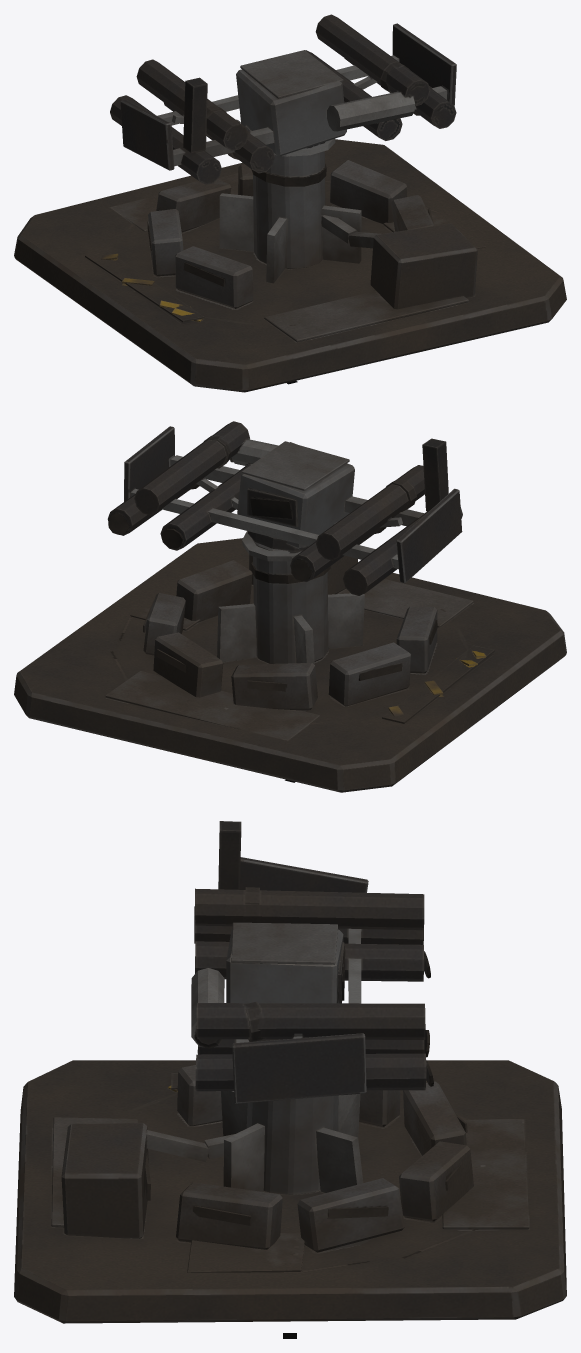
File: chs_thorn_wreck.fbx
3 renders of one model, top to bottom at view 1: azimuth 30°, elevation 25°; view 2: azimuth 150°, elevation 25°; view 3: azimuth 270°, elevation 25°, orthographic. The views are drawn at different scales.
Visible parts, largest first — view 1: base_bar, launcher_bar; view 2: base_bar, launcher_bar; view 3: base_bar, launcher_bar.
Boxes of the visible parts, x1,y1,x2,y2 form: base_bar: (14,138,566,392); launcher_bar: (110,14,456,184); base_bar: (14,531,566,792); launcher_bar: (107,421,462,595); base_bar: (14,1060,566,1323); launcher_bar: (191,821,433,1103).
Bounding box in the file's own units: 777 × 680 × 779.
Materials: 2 (2 with a texture image).
